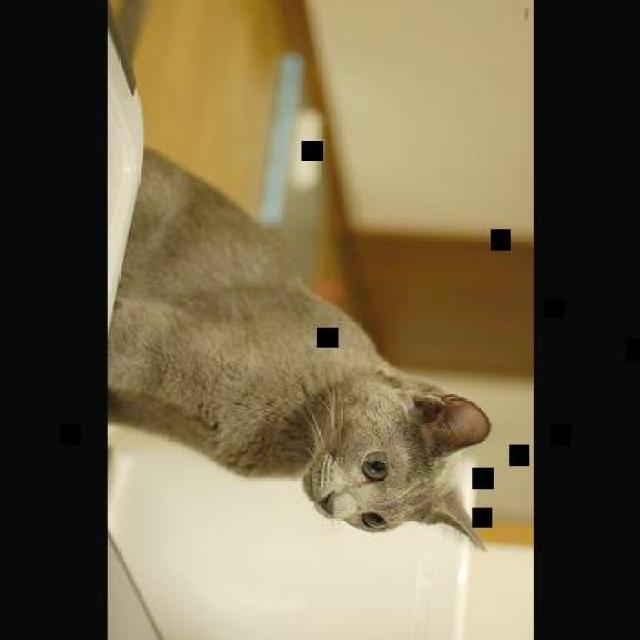unauthorized: (106, 143, 491, 552)
